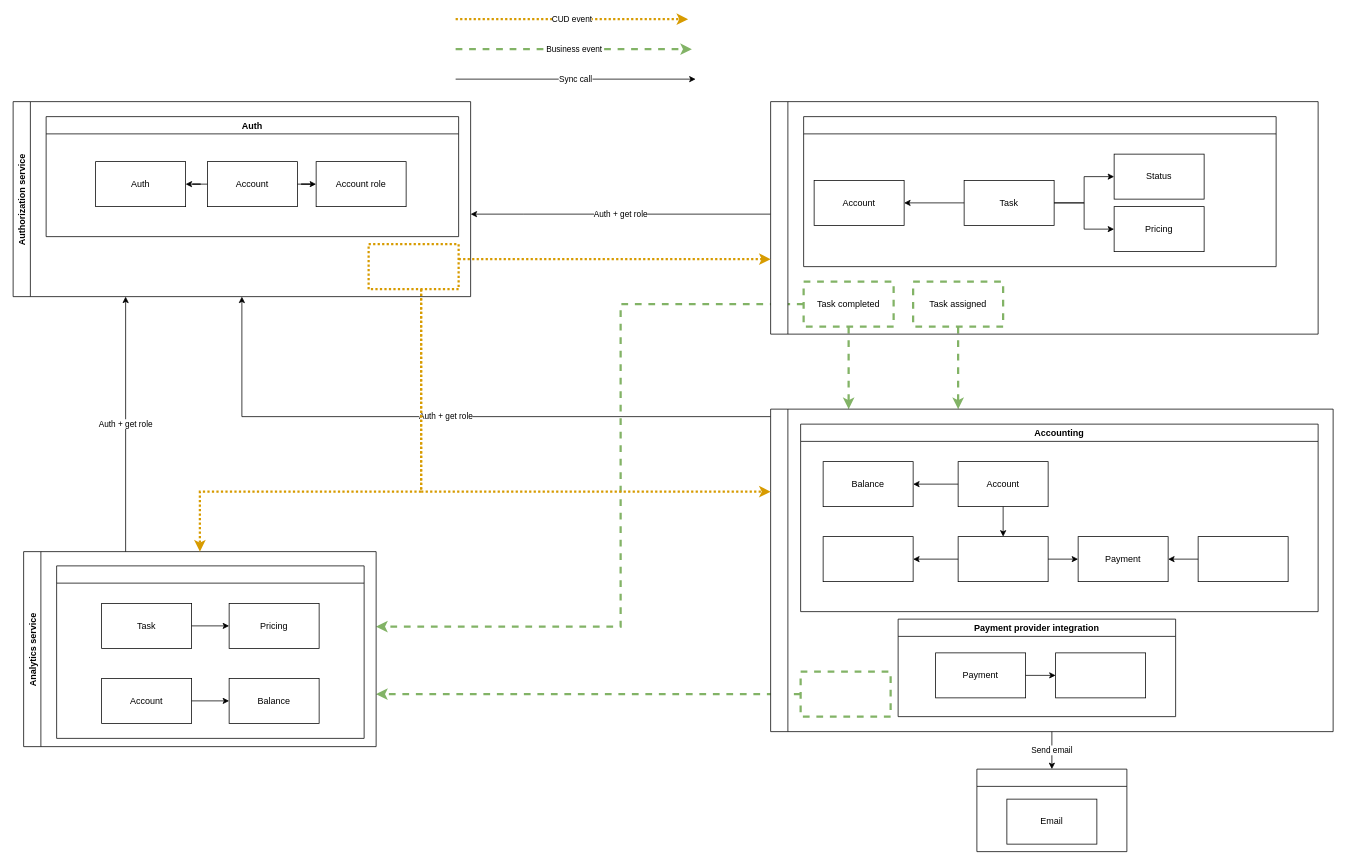
Image size: 1346x865. Some labels were removed from this diagram. The shapes that lost their labels are listed below. From the top down, each one's box as (x1, y1, x2, y2) in pixels, then its label:
(803, 116, 1276, 267): Task Tracker
(770, 101, 1318, 334): Task Tracker service
(367, 243, 459, 290): Account updated
(822, 536, 913, 582): Task (snapshot)
(957, 536, 1048, 582): Transaction Log
(770, 408, 1333, 732): Accounting service
(1197, 536, 1288, 582): Email report
(56, 565, 364, 738): Analytics
(799, 670, 891, 717): Balance updated
(1055, 652, 1146, 698): 3rd party payment provider integration data
(976, 768, 1127, 852): SMTP
